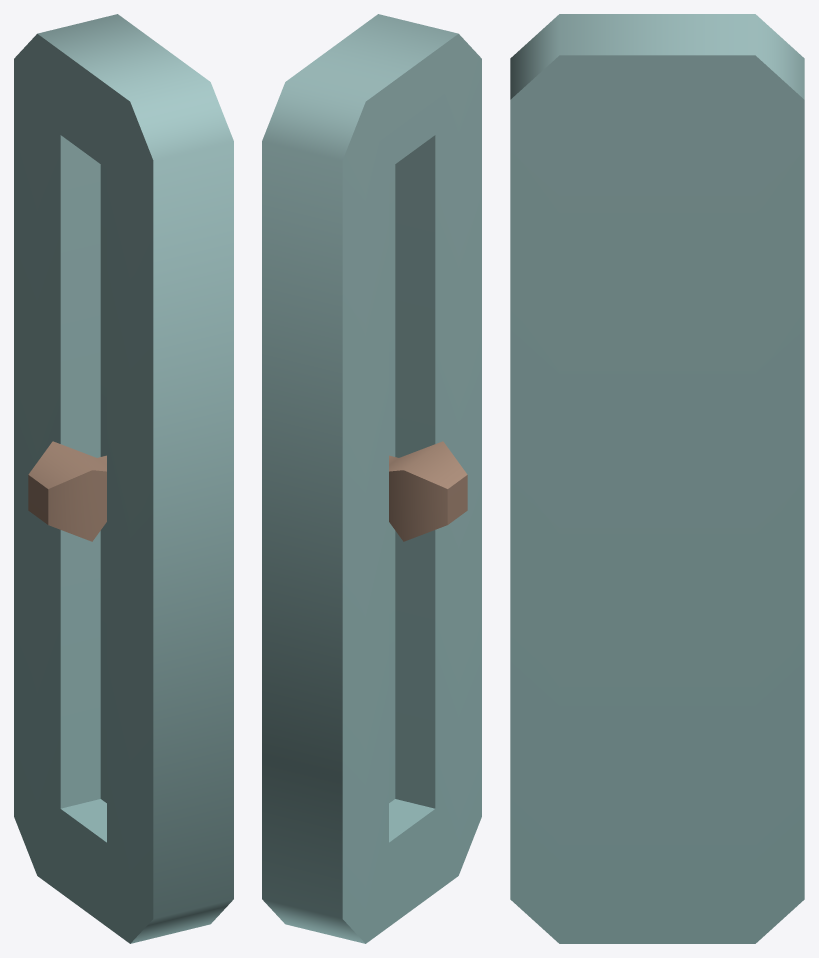
Rendered from (%no-merge) (%open-left) (%low) 9.glb.
3 views of the same model, side by side, from view 1: azimuth 30°, elevation 25°; view 2: azimuth 150°, elevation 25°; view 3: azimuth 270°, elevation 25° (orthographic). The views are drawn at different scales.
Parts seen in each view (by area): view 1: (%no-merge) (%open-left) (%low) 9(Clone); view 2: (%no-merge) (%open-left) (%low) 9(Clone); view 3: (%no-merge) (%open-left) (%low) 9(Clone).
Boxes of the visible parts, bbox=[...] form: (%no-merge) (%open-left) (%low) 9(Clone): bbox=[14, 14, 233, 943]; (%no-merge) (%open-left) (%low) 9(Clone): bbox=[262, 14, 481, 943]; (%no-merge) (%open-left) (%low) 9(Clone): bbox=[510, 14, 804, 943].
Size of the model in its own units: 0.0782 by 0.5 by 0.15.
